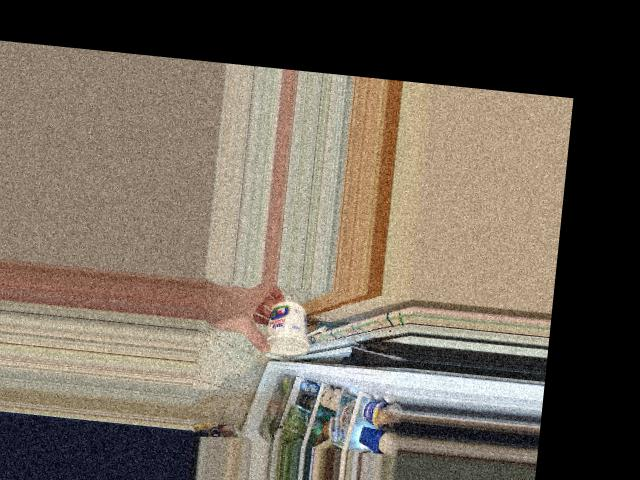cotage: (260, 293, 314, 360)
